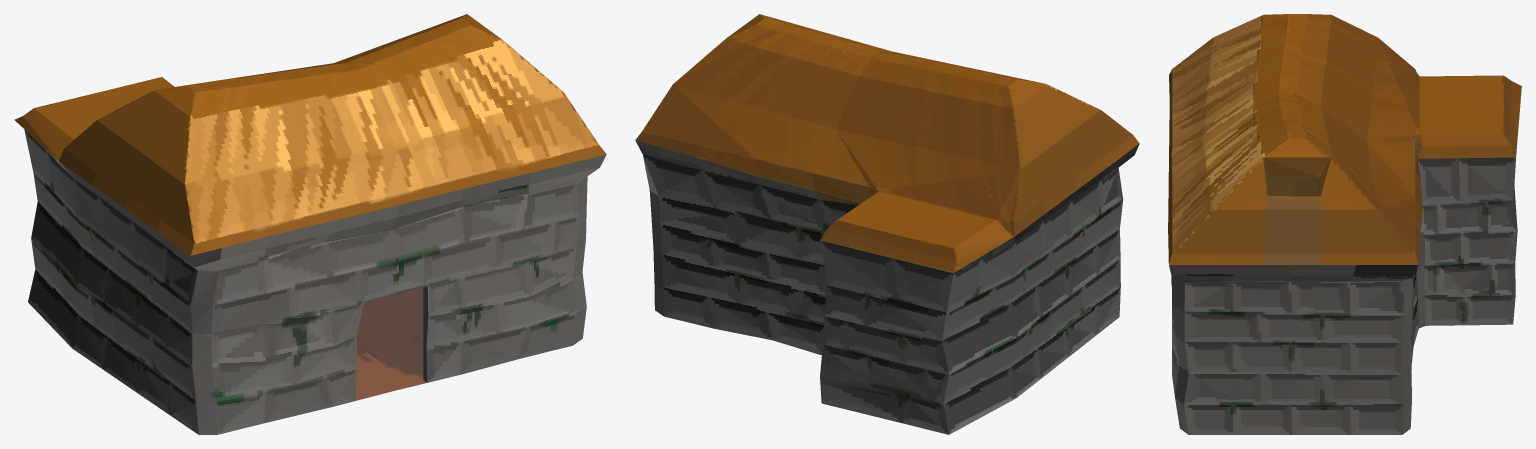
The model's file is houseReal.glb.
3 renders of one model, left to right at view 1: azimuth 30°, elevation 25°; view 2: azimuth 150°, elevation 25°; view 3: azimuth 270°, elevation 25°, orthographic. The views are drawn at different scales.
Parts seen in each view (by area): view 1: house.001; view 2: house.001; view 3: house.001.
Part boxes in pixels (x1,y1,x2,y2): house.001: (14, 14, 606, 434); house.001: (635, 14, 1139, 434); house.001: (1168, 14, 1521, 434).
Size of the model in its own units: 11.47 by 7.72 by 9.05.
Materials: 7 (7 with a texture image).
